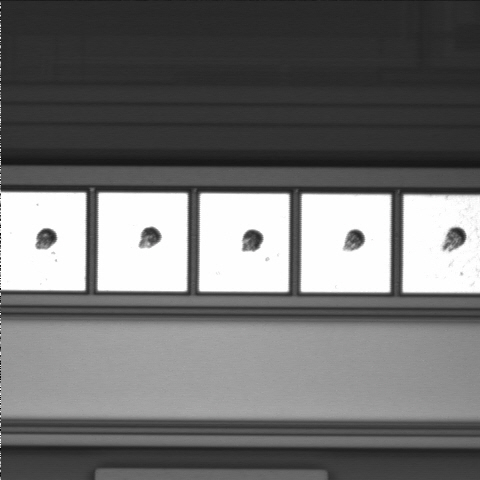pad: (199, 193, 289, 292), (98, 193, 188, 291), (301, 194, 391, 292)
